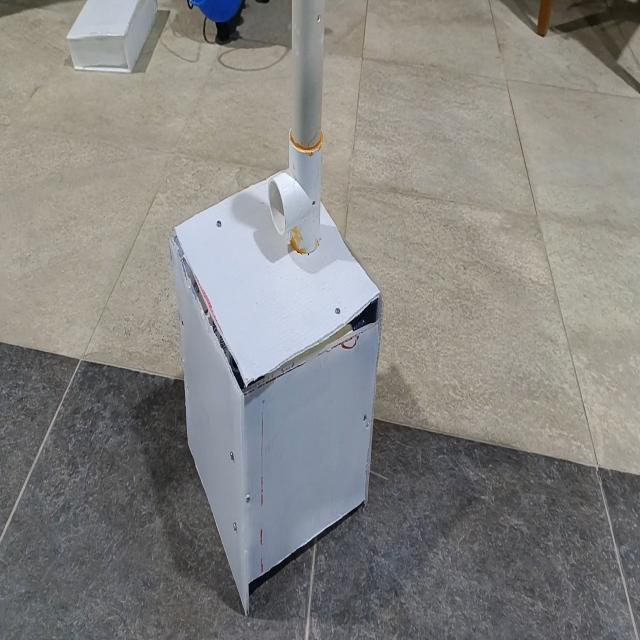Cube: (168, 167, 384, 615)
Cuboid: (65, 0, 158, 73)
